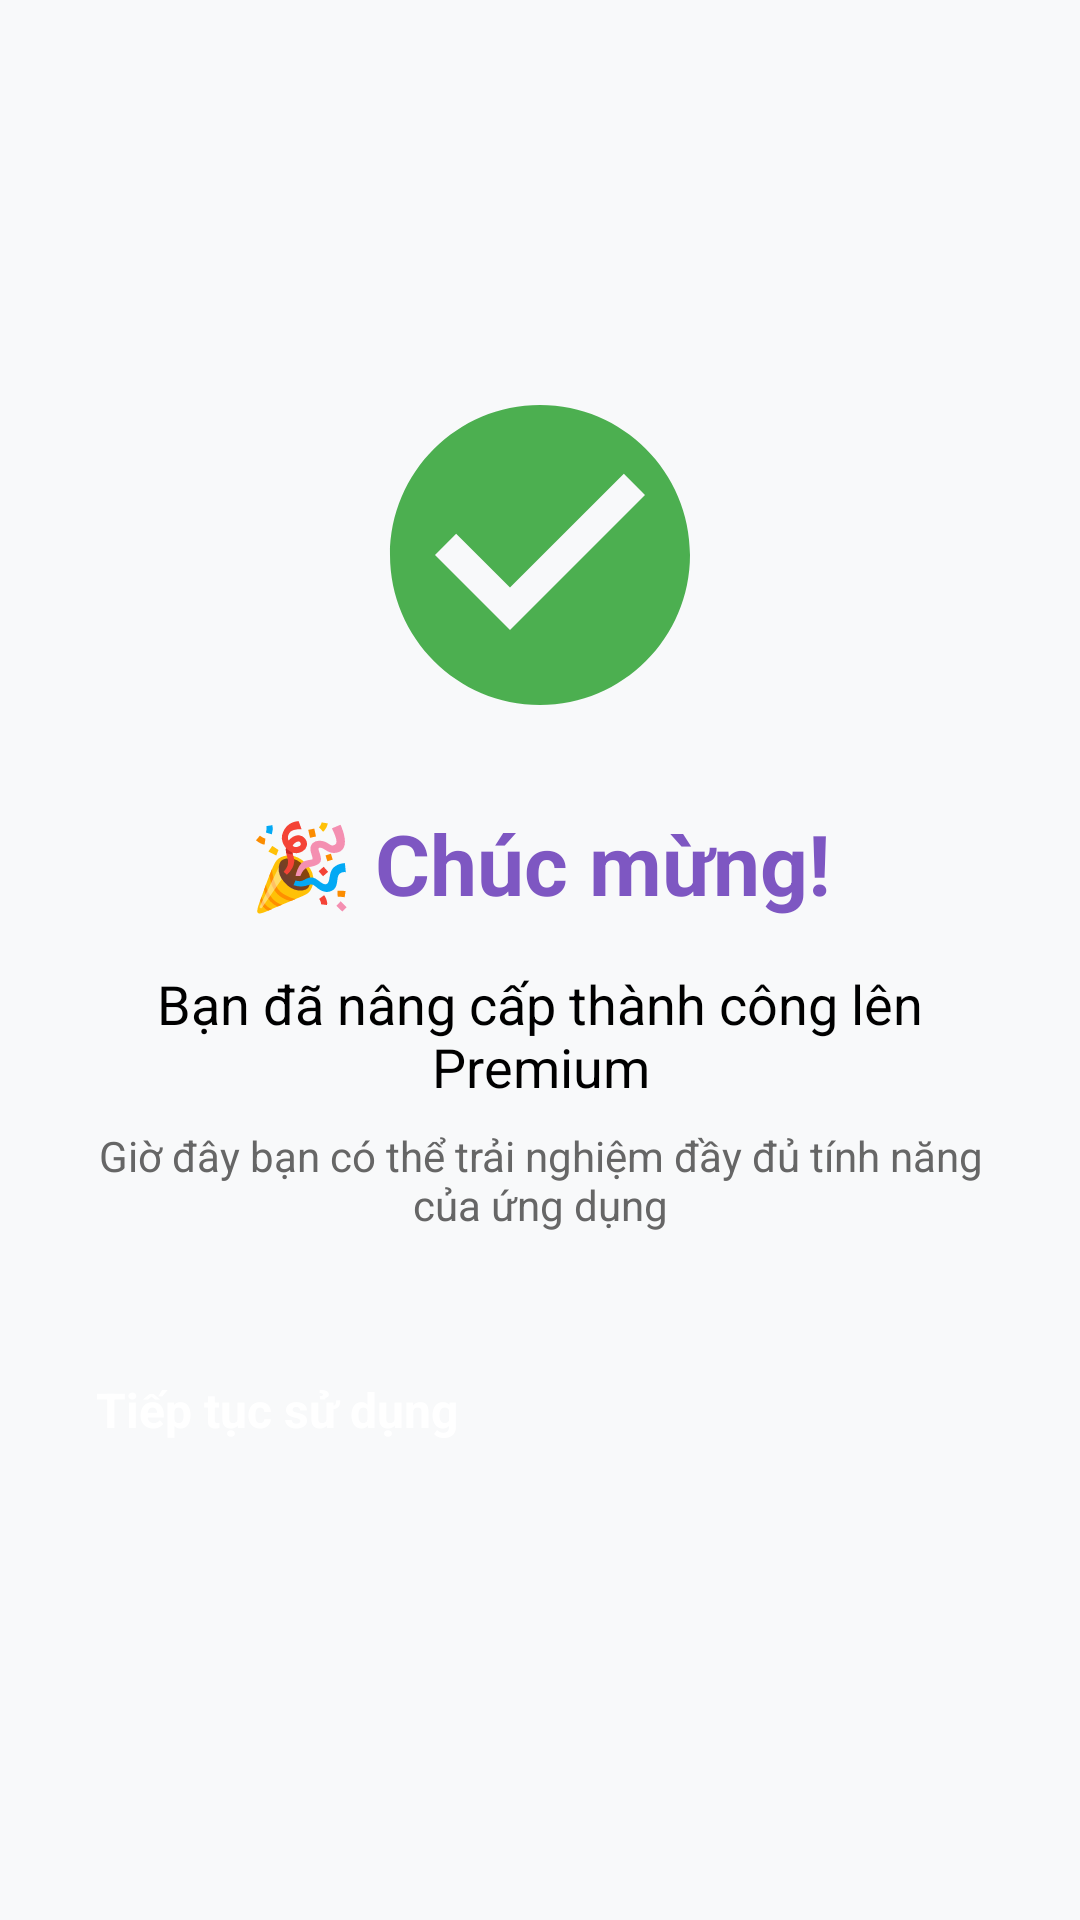

Locate icon controls on the screen. Image size 1080×1920, boxes as {"left": x1, "top": y1, "right": x2, "bottom": y2}.
success simple: {"left": 390, "top": 405, "right": 690, "bottom": 705}
